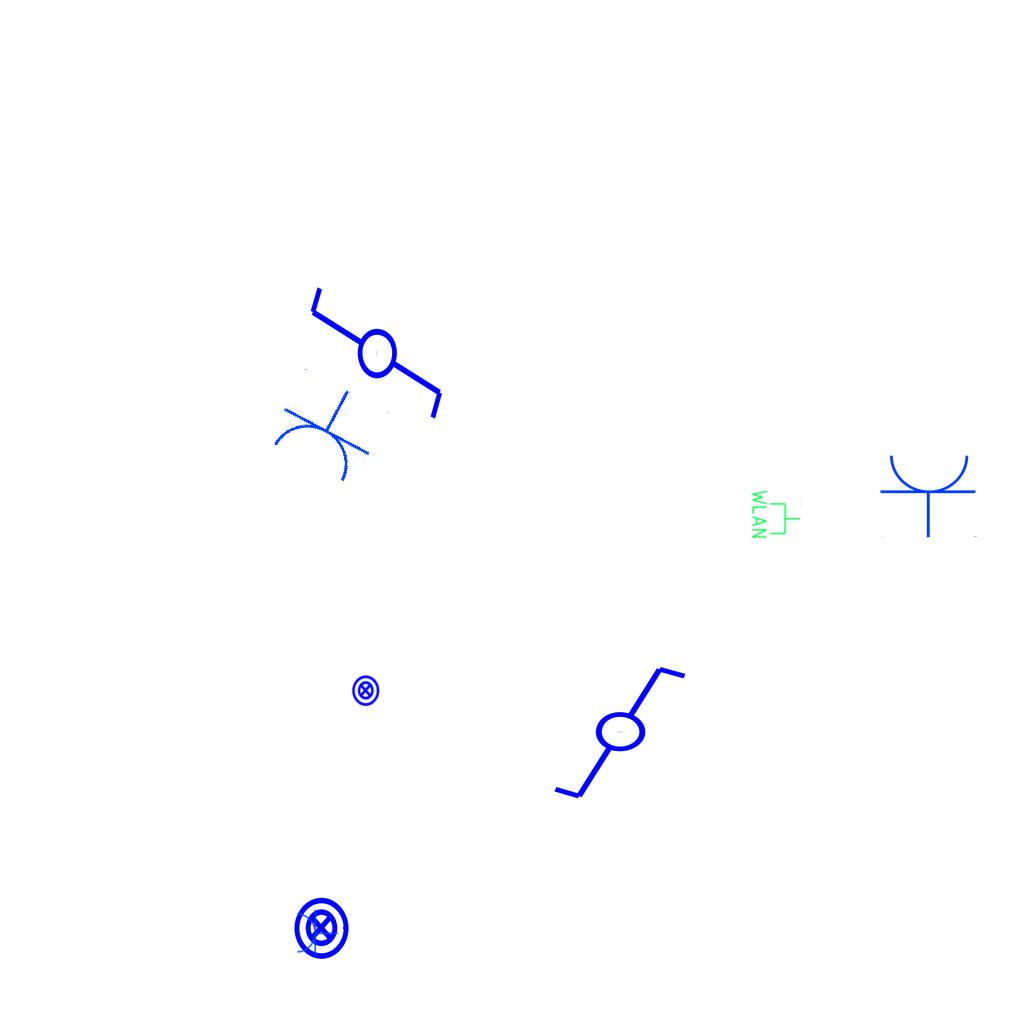Schukosteckdose_einfach: (262, 366, 392, 491), (879, 451, 979, 538), (295, 908, 338, 958)
Taster_beleuchtet: (288, 895, 354, 961), (349, 674, 382, 707)
WLAN: (750, 488, 802, 540)
Wechselschalter: (303, 283, 447, 440), (550, 662, 707, 806)
